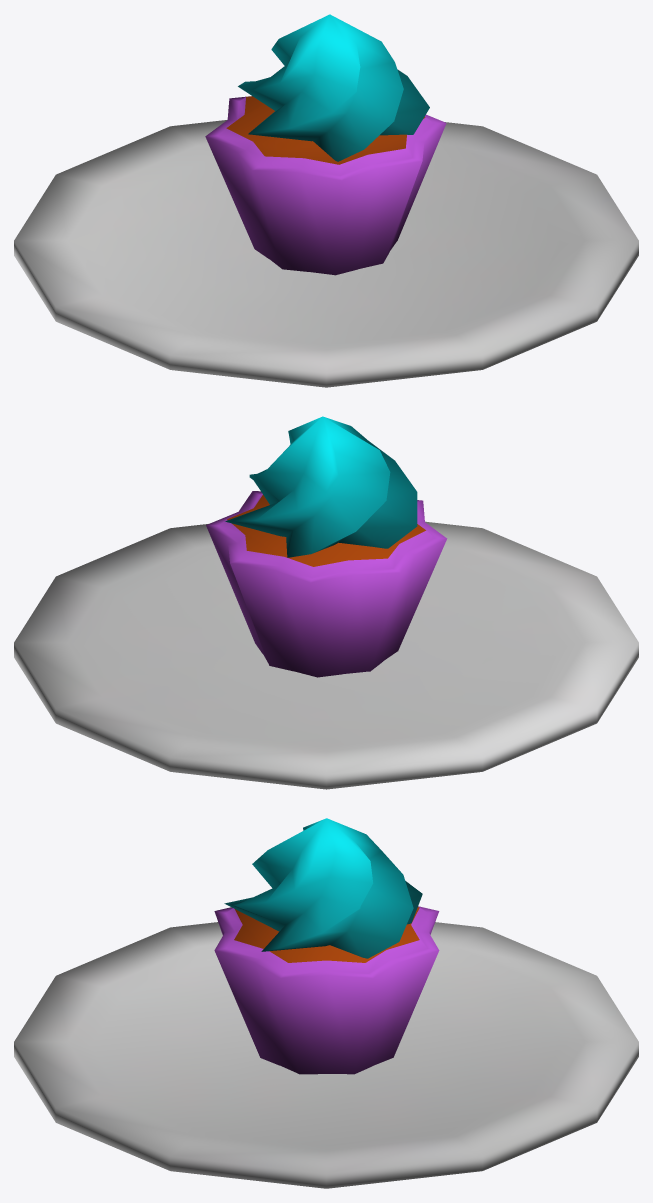
File: Dish.fbx
3 views of the same model, one above another, from view 1: azimuth 30°, elevation 25°; view 2: azimuth 150°, elevation 25°; view 3: azimuth 270°, elevation 25° (orthographic).
Visible parts, largest first — view 1: Dish; view 2: Dish; view 3: Dish.
Part boxes in pixels (x1=…): Dish: x1=14, y1=14, x2=638, y2=387; Dish: x1=14, y1=416, x2=638, y2=789; Dish: x1=14, y1=818, x2=638, y2=1188.
Bounding box in the file's own units: 47.66 × 20.22 × 47.66.
1 material, 1 textured.
